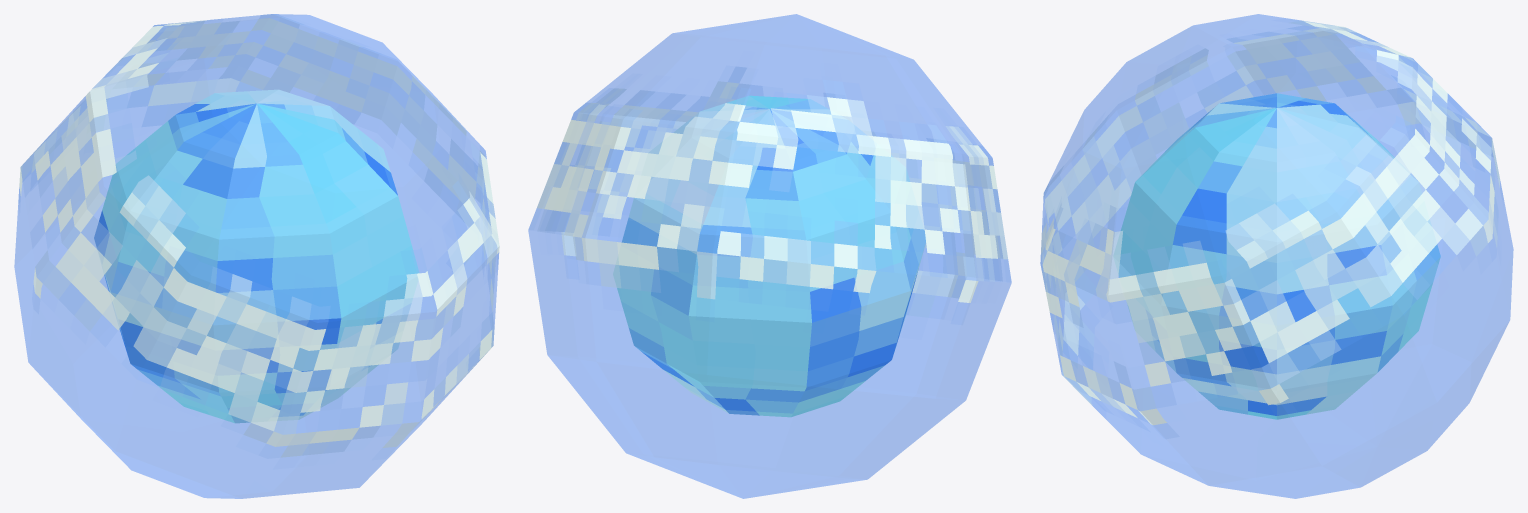
Rendered from charge.glb.
The picture shows the model from 3 angles, left to right: view 1: azimuth 30°, elevation 25°; view 2: azimuth 150°, elevation 25°; view 3: azimuth 270°, elevation 25°; orthographic projection. The views are drawn at different scales.
Visible parts, largest first — view 1: charge; view 2: charge; view 3: charge.
Part boxes in pixels (left/top/right/bottom): charge: left=14, top=14, right=499, bottom=498; charge: left=528, top=14, right=1011, bottom=498; charge: left=1040, top=14, right=1513, bottom=498.
Size of the model in its own units: 11.89 by 11.95 by 11.55.
2 materials, 2 textured.
